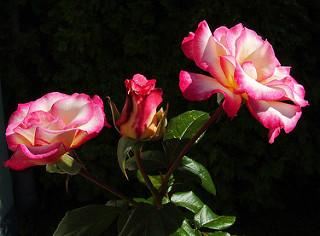Rose: (181, 13, 309, 150), (6, 89, 105, 176), (116, 68, 169, 146)
